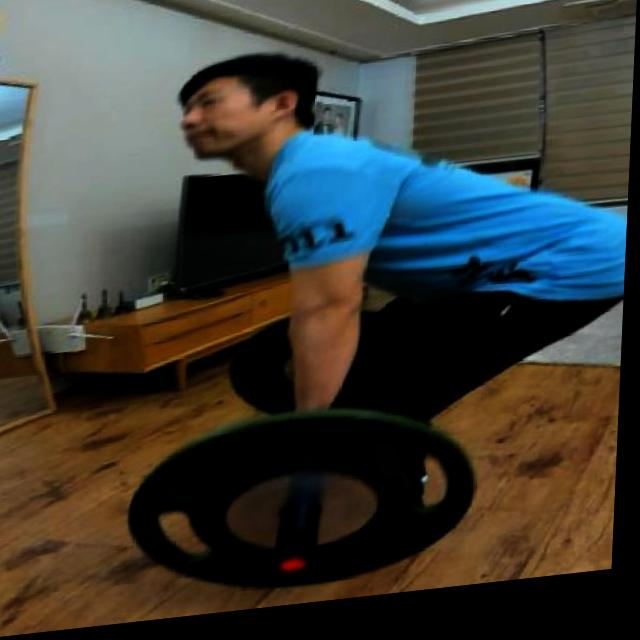barbell: (124, 394, 489, 617)
